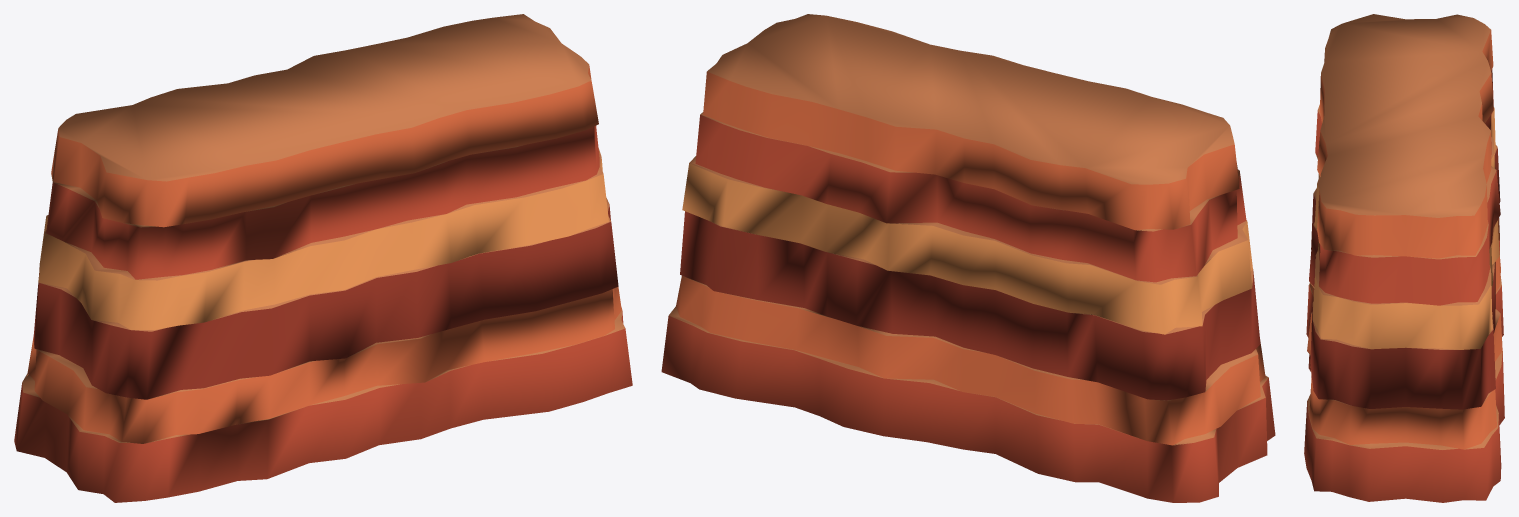
File: gulch_cliff.glb
3 views of the same model, side by side, from view 1: azimuth 30°, elevation 25°; view 2: azimuth 150°, elevation 25°; view 3: azimuth 270°, elevation 25° (orthographic). The views are drawn at different scales.
Visible parts, largest first — view 1: Cliff.001; view 2: Cliff.001; view 3: Cliff.001.
Boxes of the visible parts, x1=… form: Cliff.001: x1=14, y1=14, x2=632, y2=502; Cliff.001: x1=661, y1=14, x2=1275, y2=502; Cliff.001: x1=1304, y1=14, x2=1504, y2=502.
Bounding box in the file's own units: 30.22 × 16 × 10.85.
